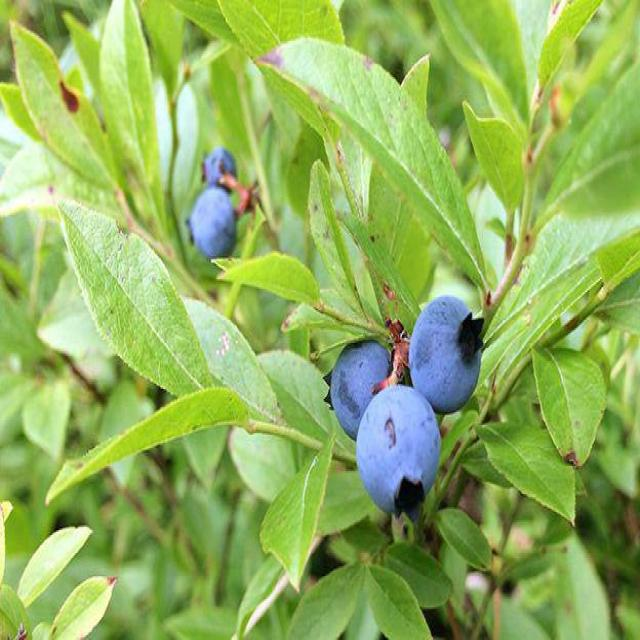BlueBerry - v1: (352, 379, 452, 527), (404, 282, 489, 418), (325, 322, 400, 438), (185, 182, 248, 277), (198, 140, 242, 203)
